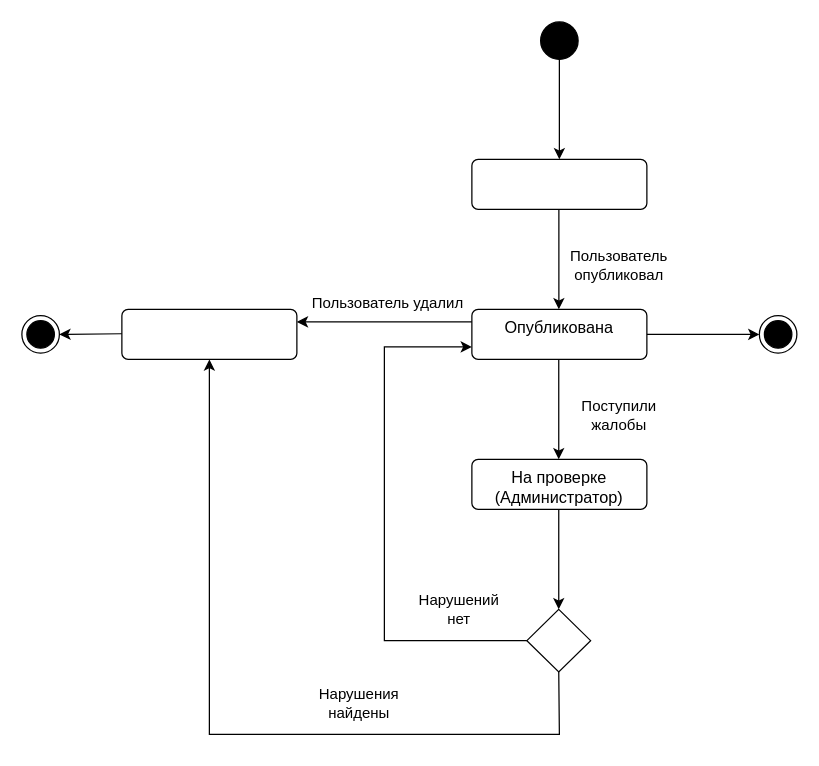
This 819x766 diagram has some shape labels left out. Here are the shapes that lost their labels. From the top down, the centre of each, then its label:
[559,183]: Черновик
[209,333]: Удалена
